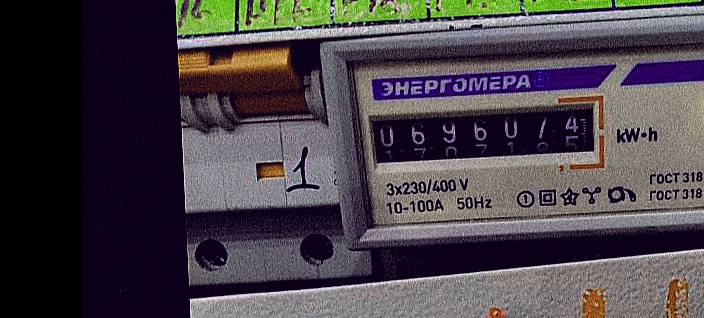0: (372, 124, 392, 149), (499, 115, 516, 141)
4: (560, 111, 577, 136)
5: (561, 135, 577, 154)
6: (405, 120, 425, 148), (467, 118, 485, 143)
7: (528, 114, 547, 141)
9: (435, 120, 455, 145)
screen: (353, 91, 609, 184)
